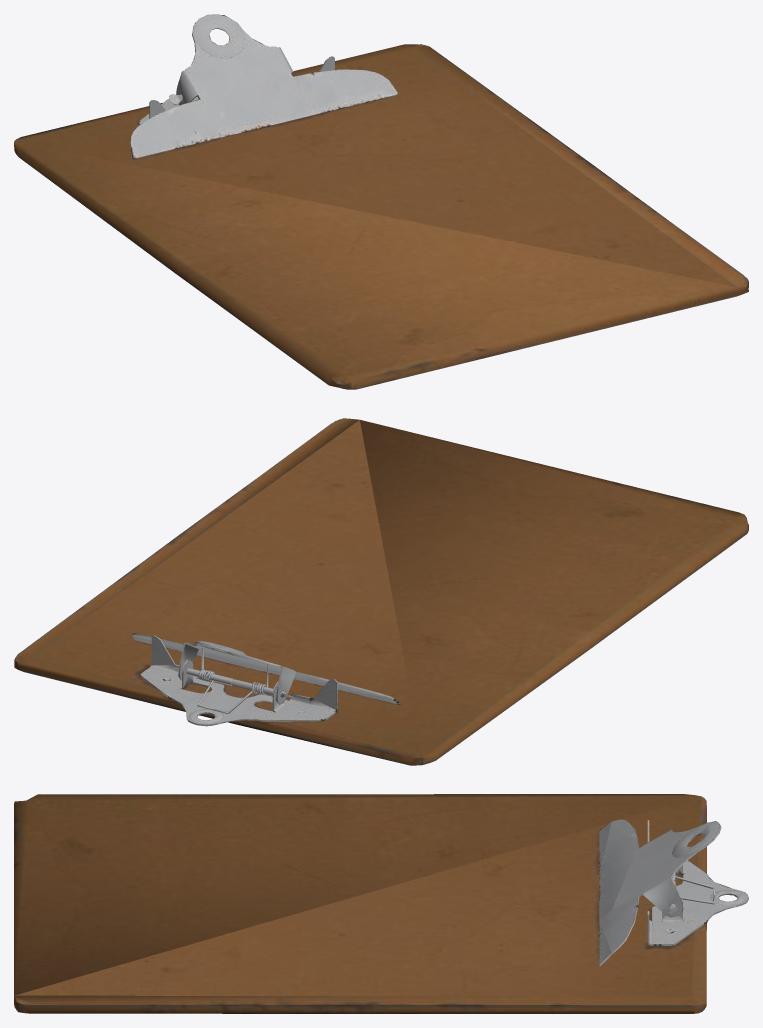
File: u_ph_clipboard.glb
3 renders of one model, top to bottom at view 1: azimuth 30°, elevation 25°; view 2: azimuth 150°, elevation 25°; view 3: azimuth 270°, elevation 25°, orthographic. The views are drawn at different scales.
Parts seen in each view (by area): view 1: clipboard; view 2: clipboard; view 3: clipboard.
Part boxes in pixels (box(x1,y1,x2,y2)): clipboard: box(14, 14, 748, 389); clipboard: box(14, 418, 748, 765); clipboard: box(14, 794, 748, 1013).
Bounding box in the file's own units: 0.2283 × 0.042 × 0.3363.
Materials: 1 (1 with a texture image).
